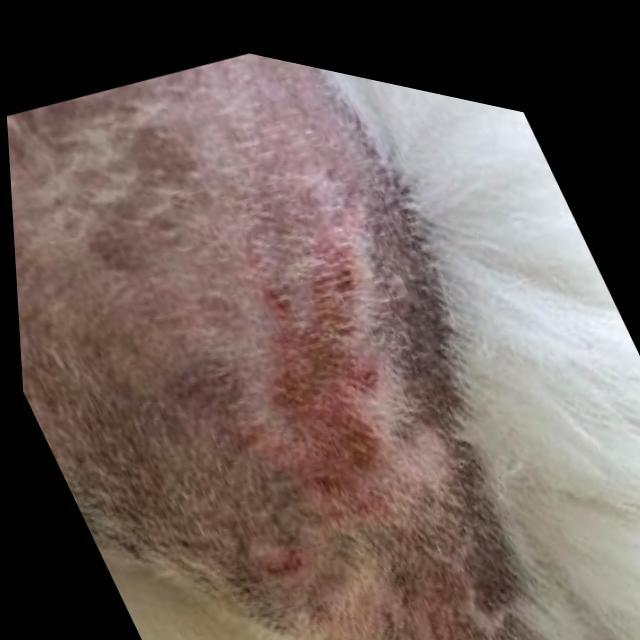nhiem nam (cho): (0, 75, 539, 640)
